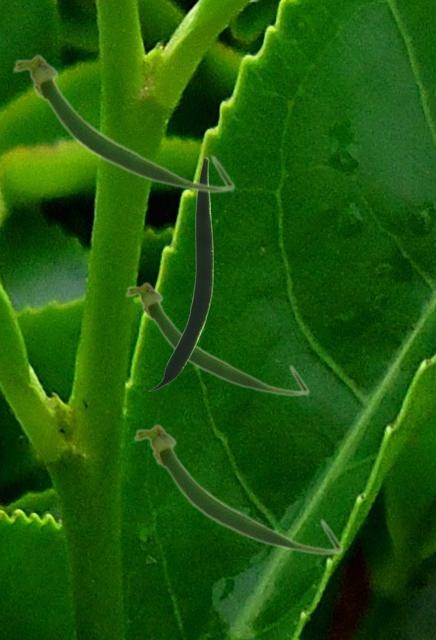french_bean: (11, 52, 235, 193), (132, 422, 343, 555), (124, 280, 309, 396), (148, 156, 212, 390)
